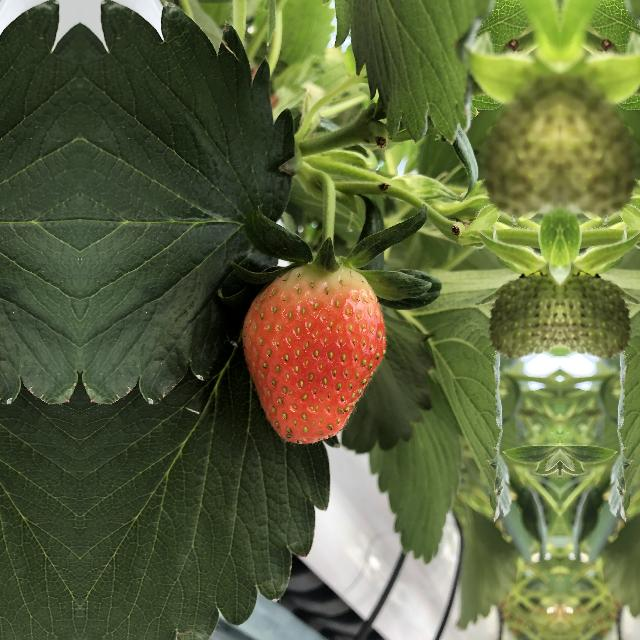Health_100: (240, 258, 400, 456)
Health_25: (487, 270, 559, 354), (561, 270, 633, 354)
